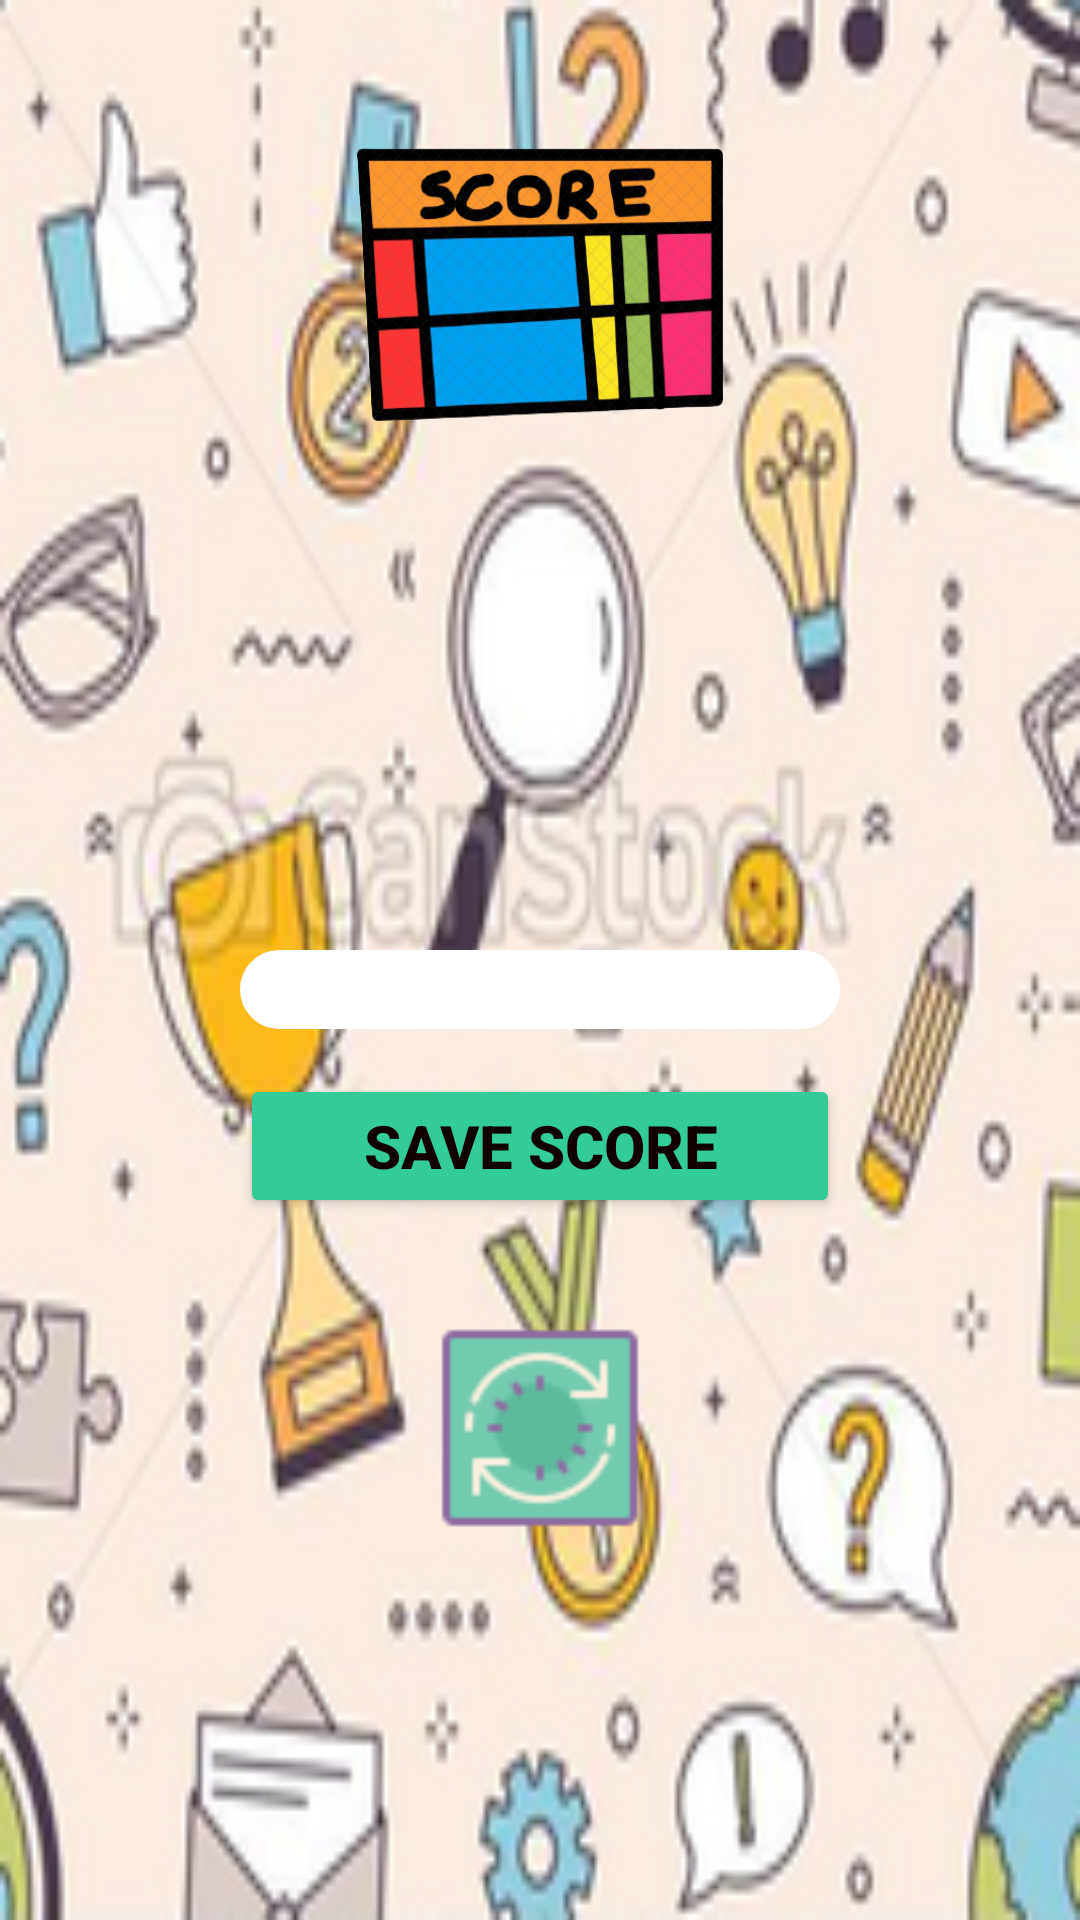

Named icons in this screenshot (1080*1920) and their bounding boxes, {"left": x1, "top": y1, "right": x2, "bottom": y2}:
replay: {"left": 441, "top": 1308, "right": 660, "bottom": 1548}
